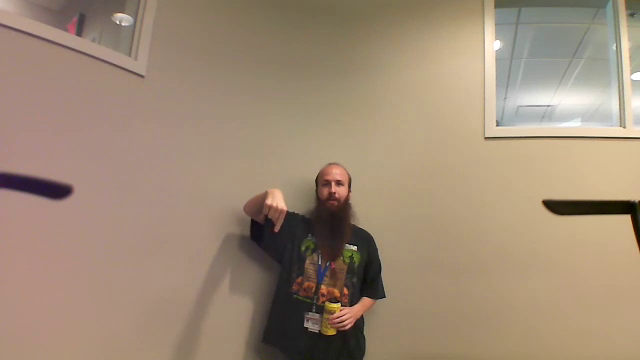down: (258, 183, 294, 240)
